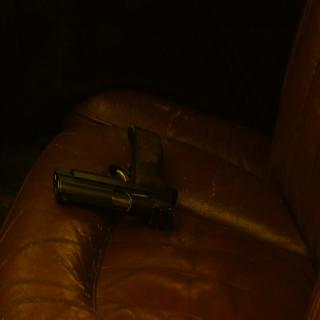gun: (50, 120, 181, 228)
